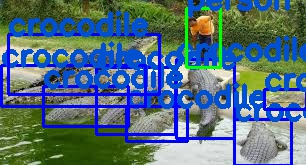crocodile: (8, 34, 159, 94), (1, 65, 144, 106), (95, 66, 174, 134), (176, 59, 234, 138), (43, 85, 128, 125), (233, 118, 291, 165), (126, 106, 186, 141), (264, 89, 306, 108)
person: (186, 8, 220, 67)
